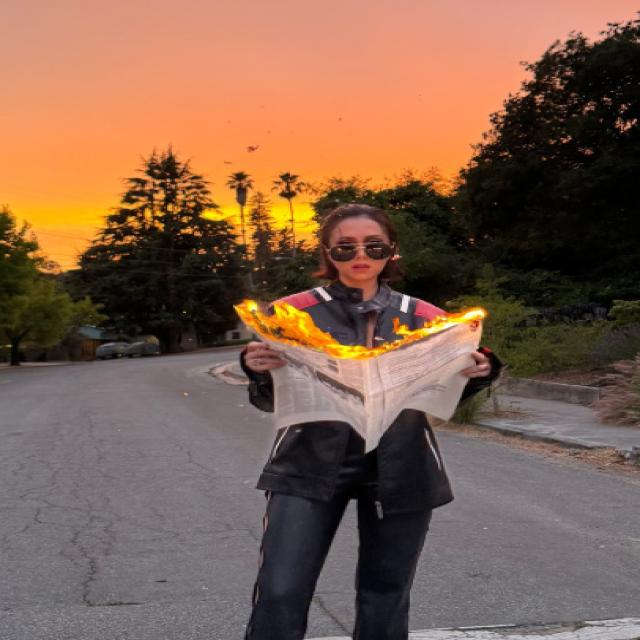fire: (233, 298, 487, 358)
